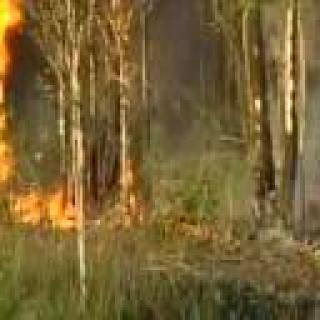fire: (0, 0, 35, 185), (8, 199, 80, 228)
